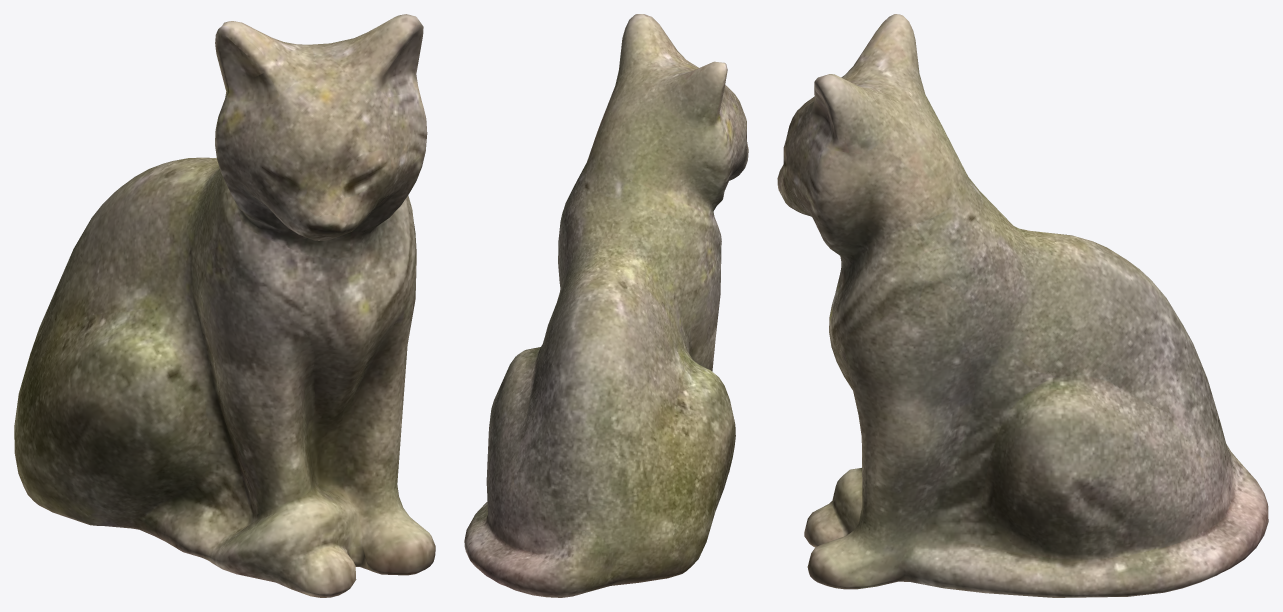
File: cat_statue.glb
3 views of the same model, side by side, from view 1: azimuth 30°, elevation 25°; view 2: azimuth 150°, elevation 25°; view 3: azimuth 270°, elevation 25° (orthographic). The views are drawn at different scales.
Parts seen in each view (by area): view 1: concrete_cat_statue; view 2: concrete_cat_statue; view 3: concrete_cat_statue.
Part boxes in pixels (<box>): concrete_cat_statue: <box>14,14,435,597</box>; concrete_cat_statue: <box>464,14,748,597</box>; concrete_cat_statue: <box>777,14,1268,597</box>.
Bounding box in the file's own units: 0.1529 × 0.283 × 0.25.
1 material, 1 textured.
